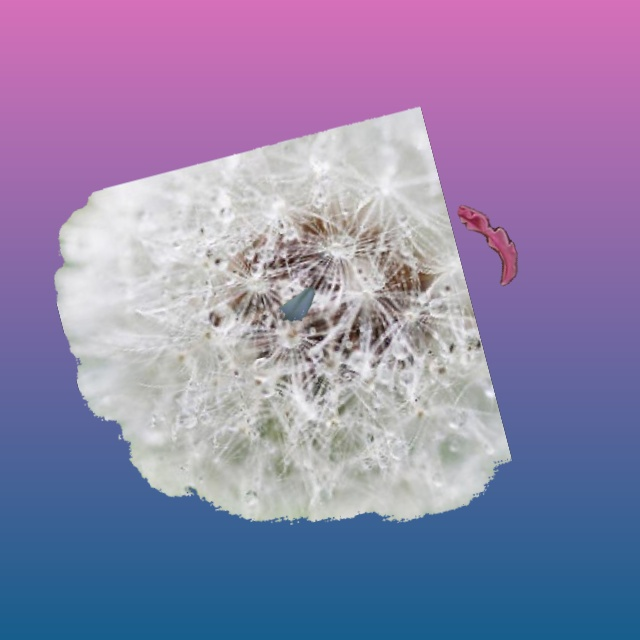cape flower: (457, 205, 517, 285)
dandelion: (54, 107, 511, 524)
passion flower: (279, 286, 314, 321)
